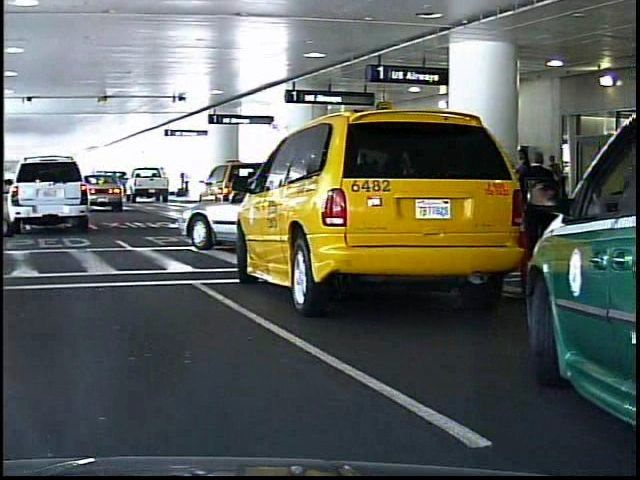person: (515, 149, 559, 281), (180, 168, 188, 198)
